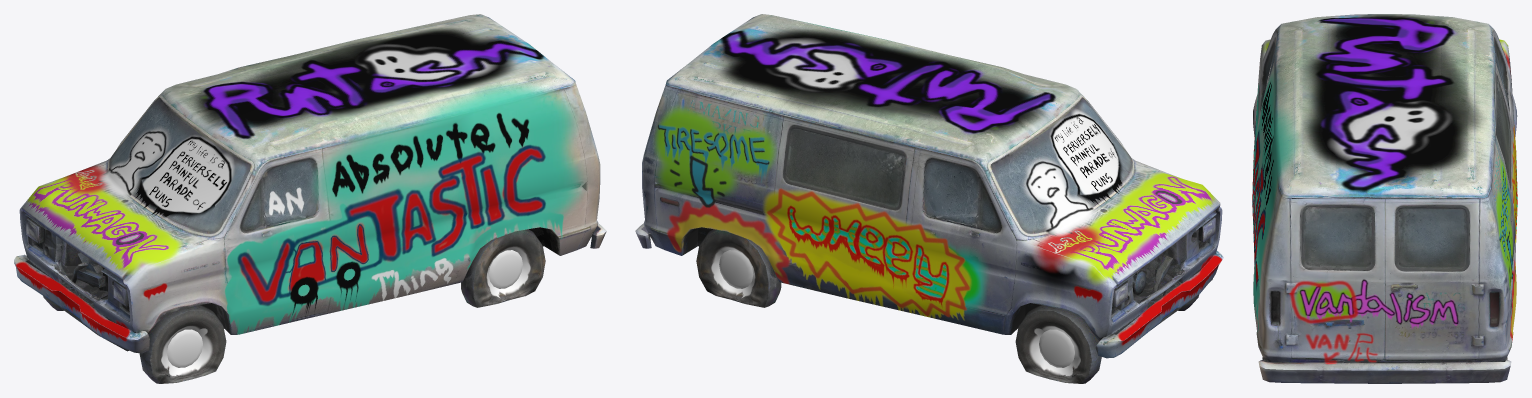
File: alley_van.glb
3 views of the same model, side by side, from view 1: azimuth 30°, elevation 25°; view 2: azimuth 150°, elevation 25°; view 3: azimuth 270°, elevation 25° (orthographic). The views are drawn at different scales.
Parts seen in each view (by area): view 1: default001_Material #105_0; view 2: default001_Material #105_0; view 3: default001_Material #105_0.
Part boxes in pixels (left/top/right/bottom): default001_Material #105_0: left=14, top=14, right=606, bottom=383; default001_Material #105_0: left=635, top=14, right=1223, bottom=383; default001_Material #105_0: left=1252, top=14, right=1517, bottom=383.
Size of the model in its own units: 151 by 61.14 by 65.14.
Materials: 1 (1 with a texture image).
